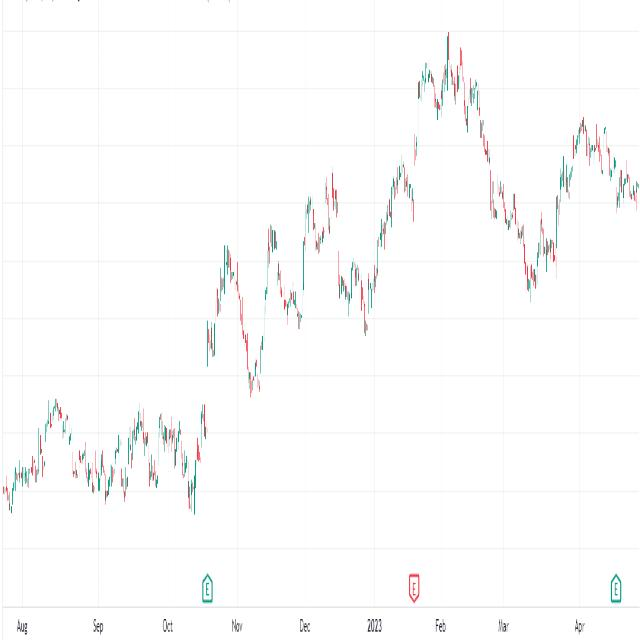Double-Bottom: (242, 339, 269, 406)
Rising-Wedge: (179, 145, 348, 564)
Rounding-Top: (371, 22, 530, 283)
